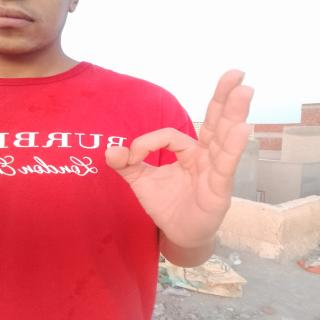Space: (96, 63, 254, 254)
